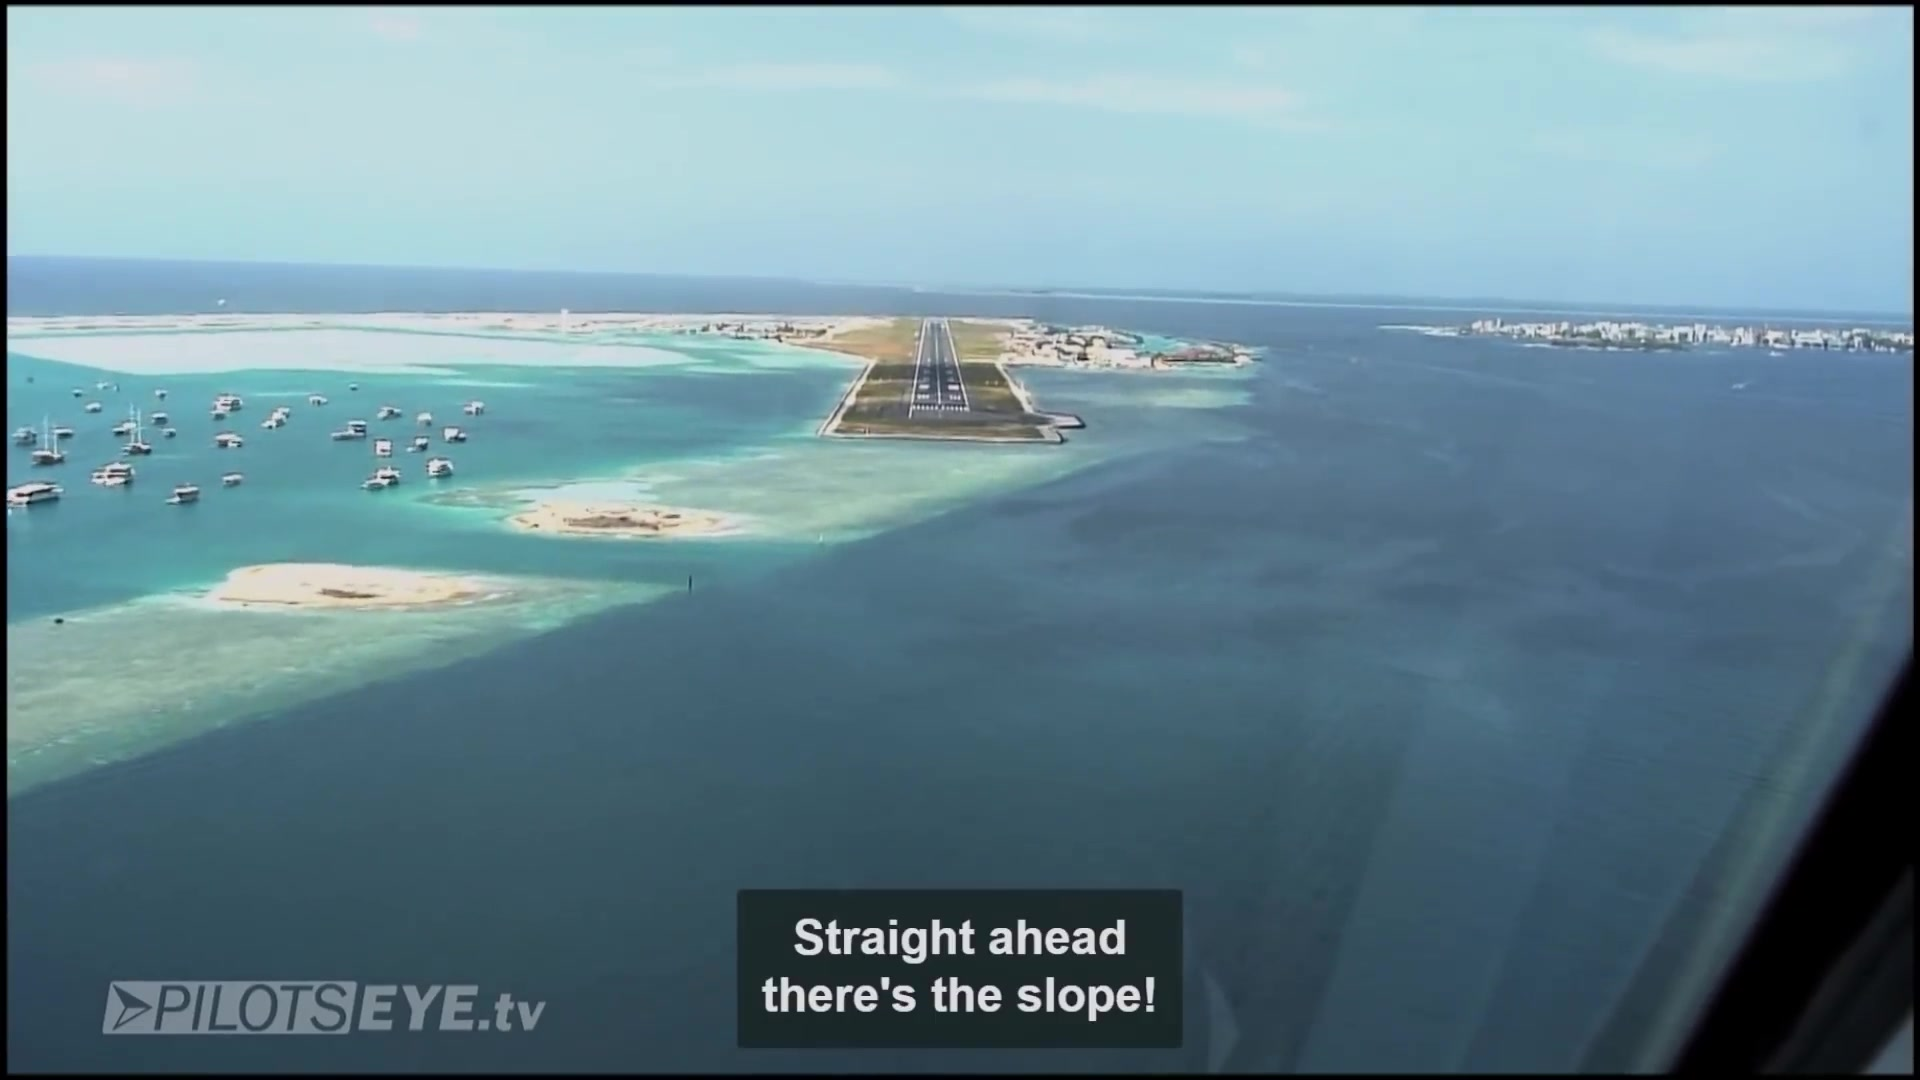entrance: (907, 404, 971, 414)
runway: (906, 316, 971, 429)
